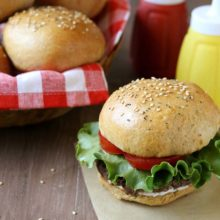hamburger_buns: (90, 72, 220, 207), (2, 4, 107, 71)
